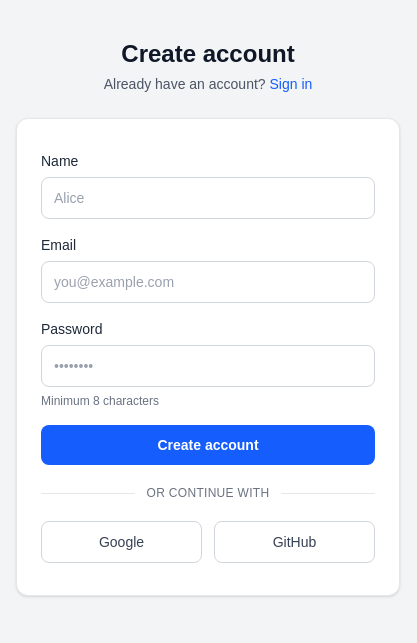
Test: RegisterPage › shows a server error message when registration fails
In the field labelled "Email": (208, 282) [41,261,375,303], type "taken@example.com"
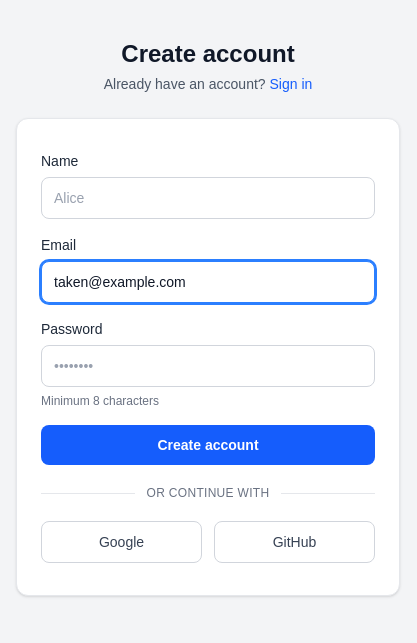
In the password field labelled "Password": (208, 366) [41,345,375,387], type "securepass"
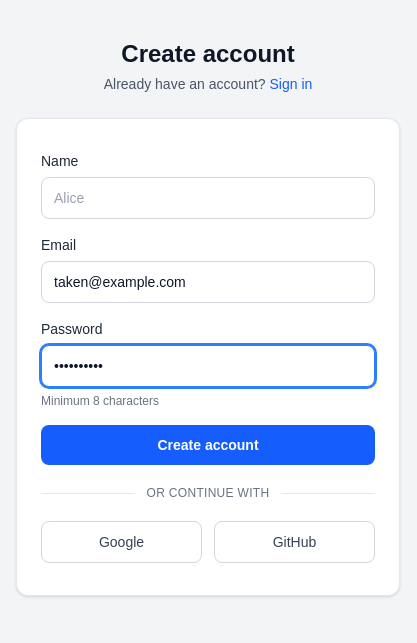
Click the button "Create account": (208, 445) [41,425,375,465]
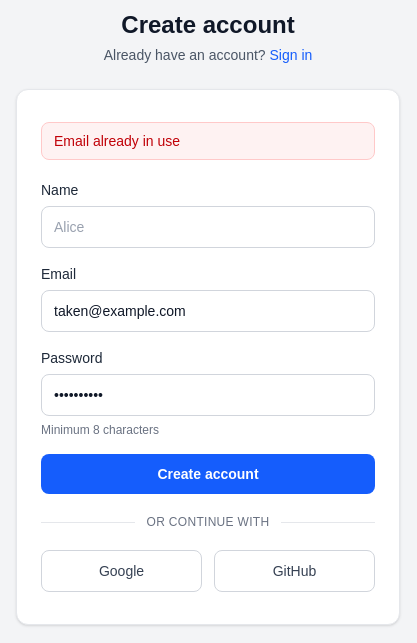
Check: the text "Email already in use" is shown, box [41,122,375,160]
